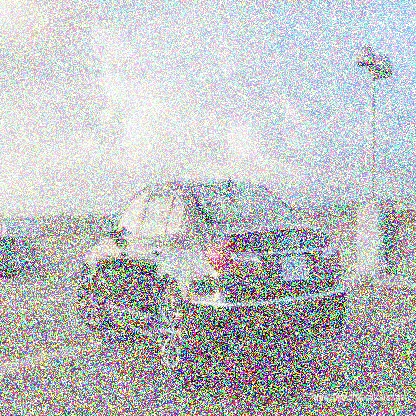Vehicle: (79, 182, 347, 377)
